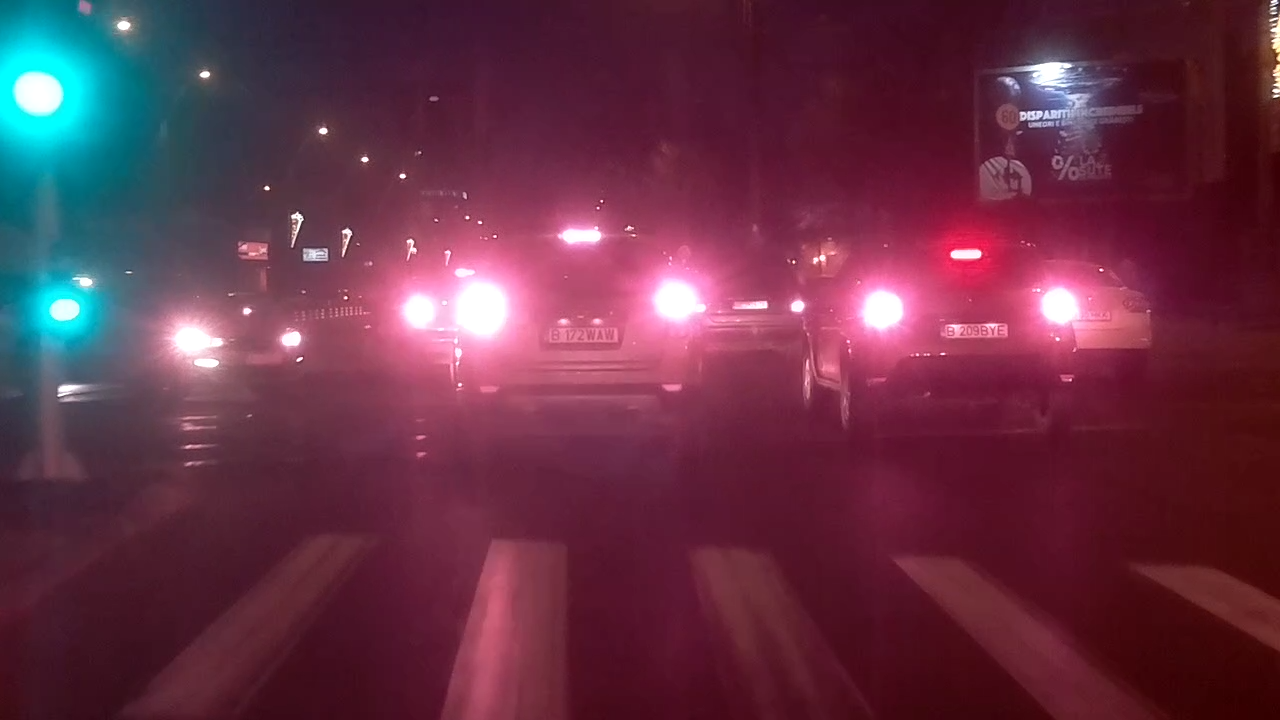license-plate: (539, 323, 621, 345), (937, 320, 1011, 341)
